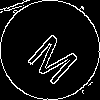M: (25, 25, 87, 87)
